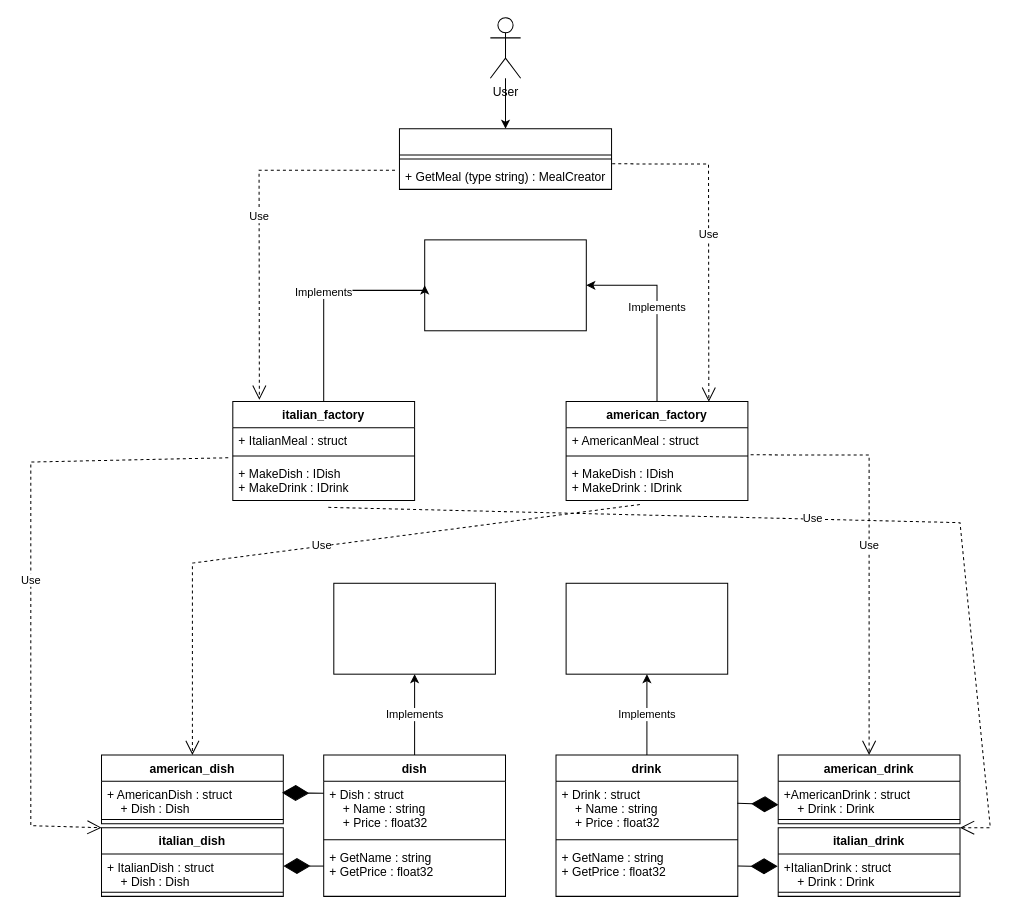
Image size: 1022x917. Some labels were removed from this diagram. Here are the shapes that lost their labels. From the top down, the box of each, then its label:
(398, 128, 612, 189): meal_factory
(424, 239, 586, 331): «interface» MealCreator + MakeDish : IDish + MakeDrink : IDrink
(333, 582, 495, 674): «interface» IDish + GetName : string + GetPrice : float32
(565, 582, 728, 674): «interface» IDrink + GetName : string + GetPrice : float32
